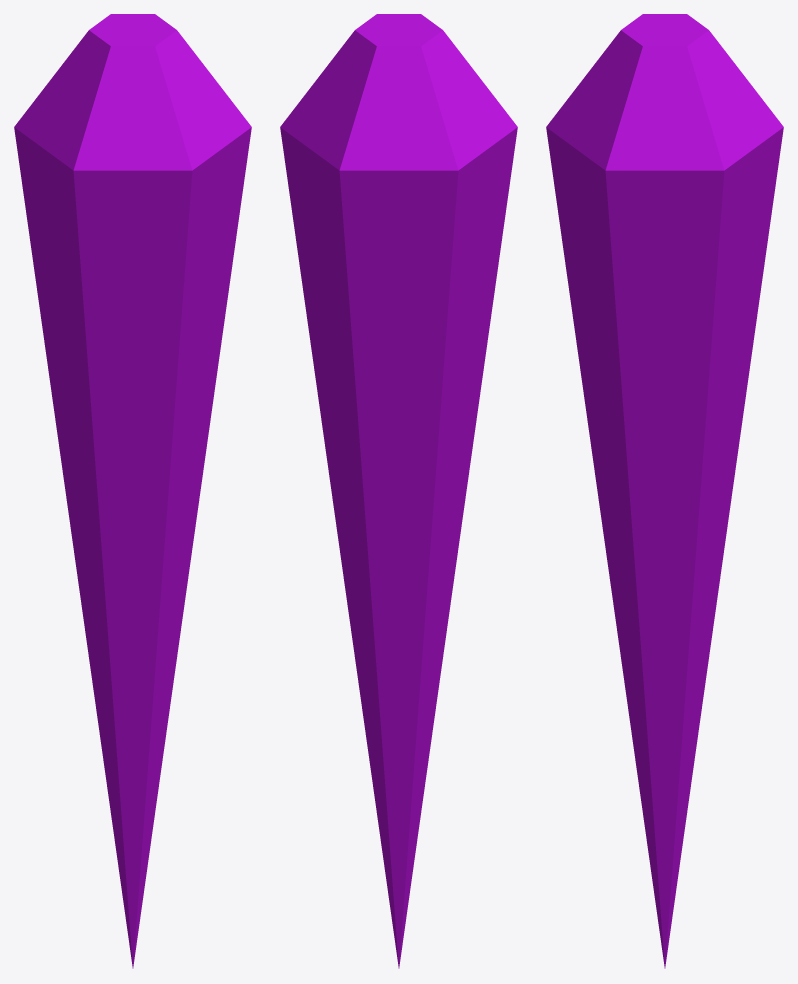
File: GemaHonesta.fbx
The picture shows the model from 3 angles, left to right: view 1: azimuth 30°, elevation 25°; view 2: azimuth 150°, elevation 25°; view 3: azimuth 270°, elevation 25°; orthographic projection.
Parts seen in each view (by area): view 1: Cone; view 2: Cone; view 3: Cone.
Boxes of the visible parts, x1,y1,x2,y2 form: Cone: [14, 14, 251, 968]; Cone: [280, 14, 517, 968]; Cone: [546, 14, 783, 968].
Size of the model in its own units: 44.28 by 223 by 51.13.
